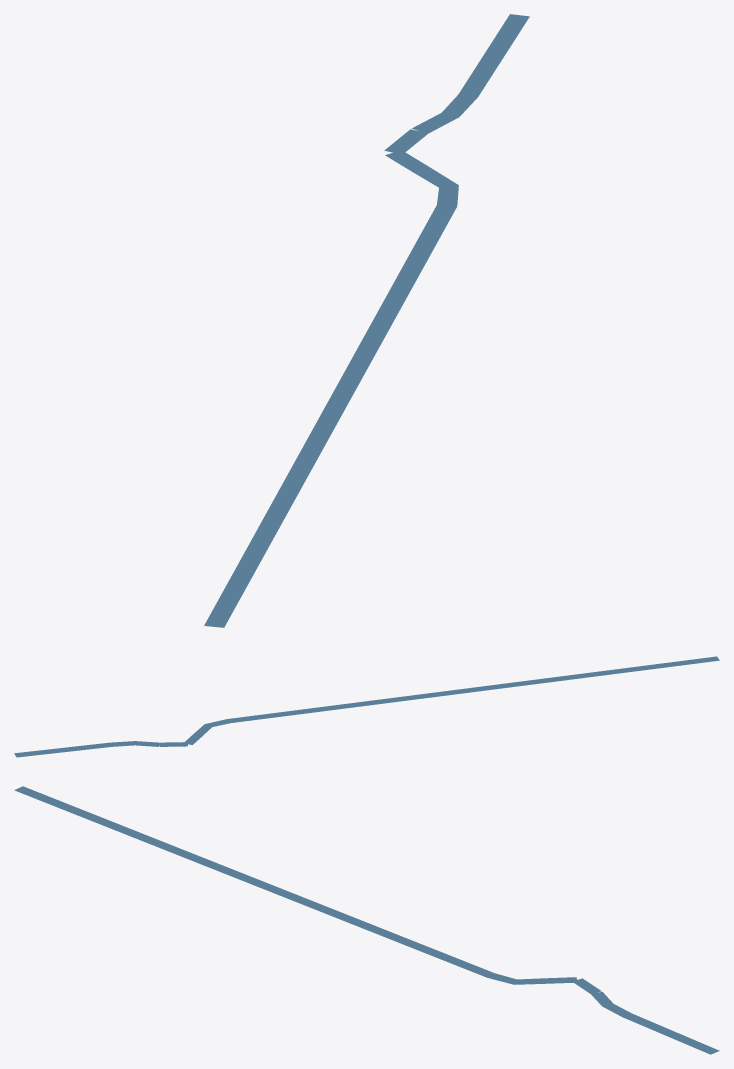
File: c_1646_17832_water.glb
3 renders of one model, top to bottom at view 1: azimuth 30°, elevation 25°; view 2: azimuth 150°, elevation 25°; view 3: azimuth 270°, elevation 25°, orthographic. The views are drawn at different scales.
Parts seen in each view (by area): view 1: geometry_0; view 2: geometry_0; view 3: geometry_0.
Part boxes in pixels (x1,y1,x2,y2): geometry_0: [204, 14, 529, 627]; geometry_0: [14, 656, 719, 757]; geometry_0: [14, 786, 719, 1054].
Size of the model in its own units: 121 by 0 by 134.
